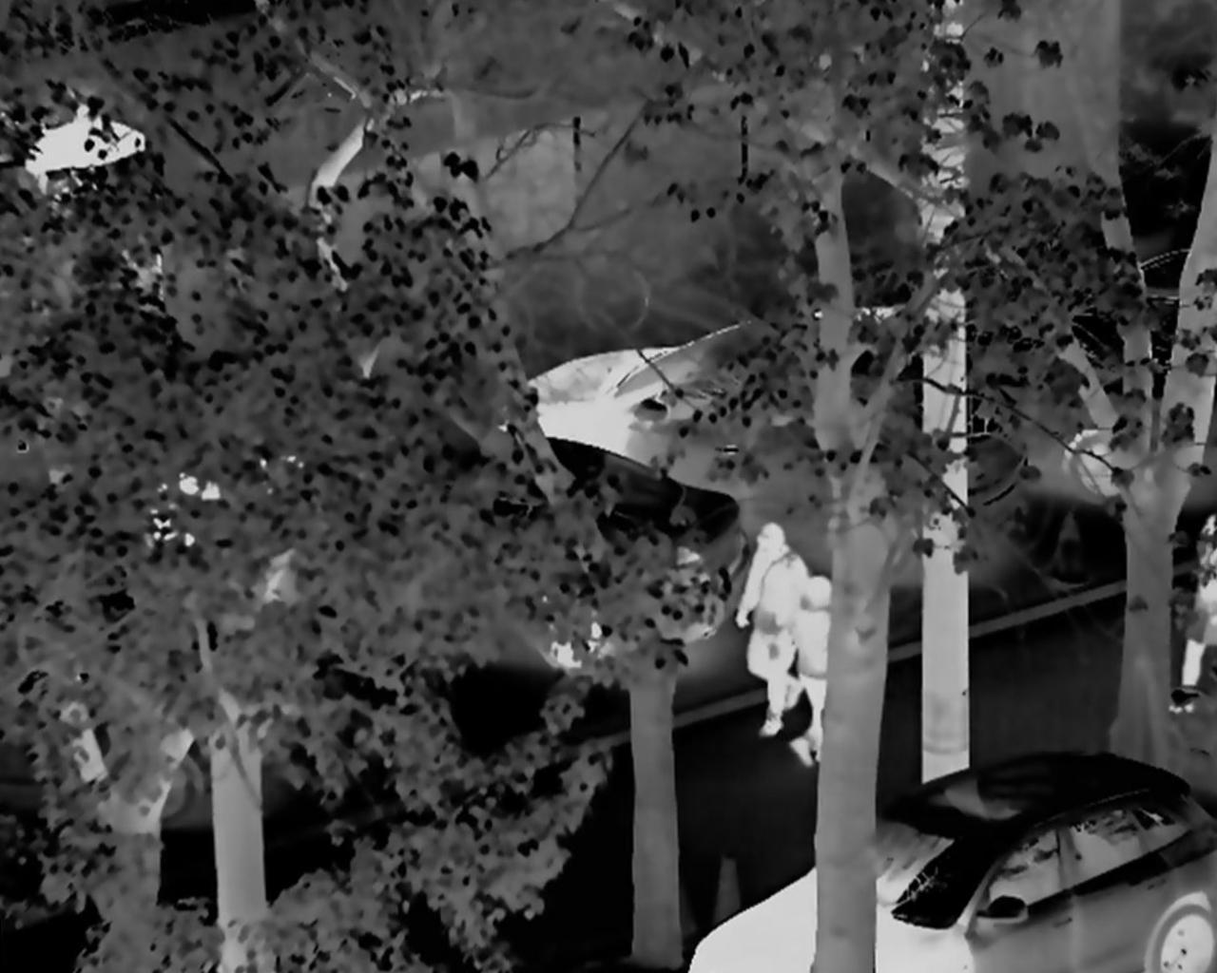person: (732, 522, 804, 750), (789, 578, 862, 775), (1169, 515, 1217, 714)
